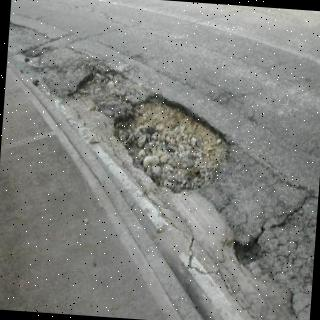pothole: (112, 93, 232, 195), (68, 70, 133, 121), (234, 229, 265, 268)
